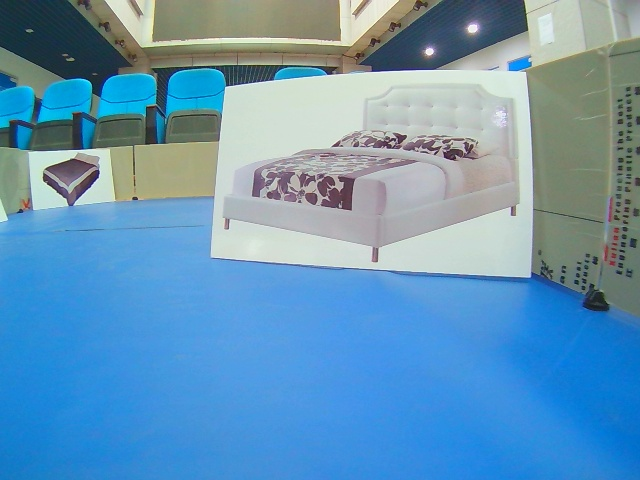bed: (225, 87, 531, 277), (29, 152, 115, 201)
